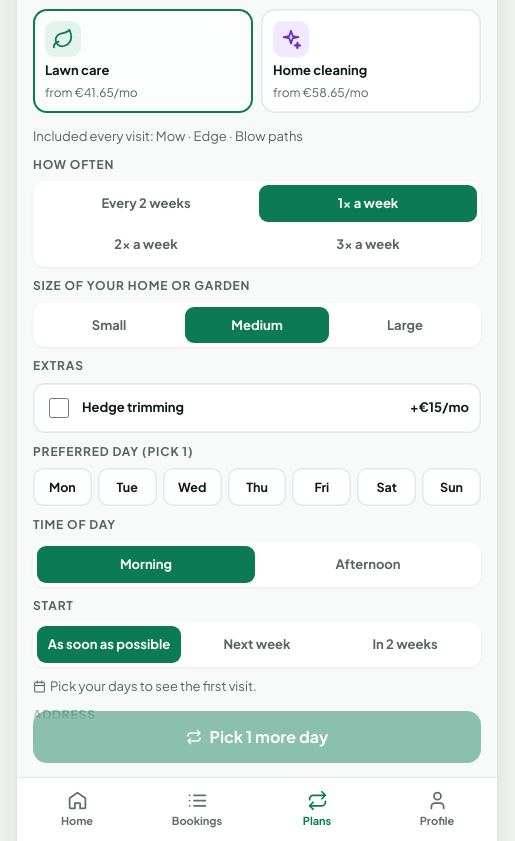
Plan builder (D90) › pays with a saved card and says so on the summary
Click the checkbox labelled "Tue".
click(127, 487)  # box [98,468,157,506]
(page scrolled)
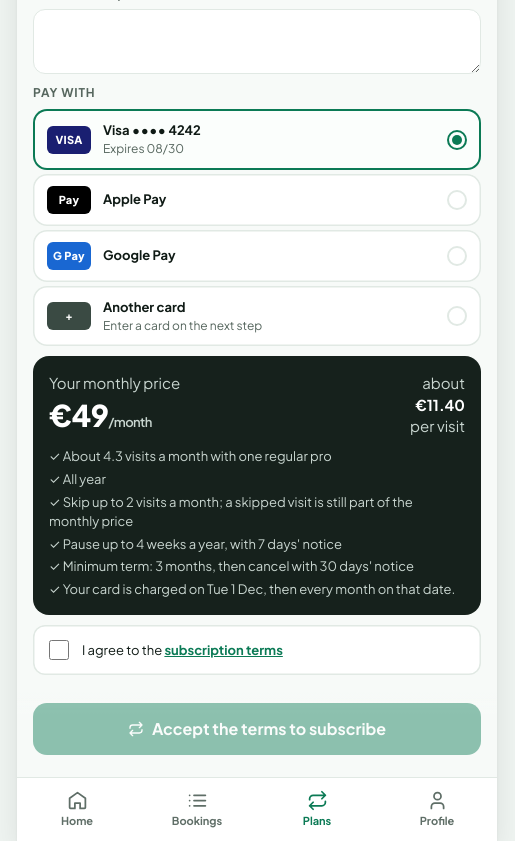
Click the checkbox named "I agree to the subscription terms".
click(59, 650)  # box [49,640,69,660]
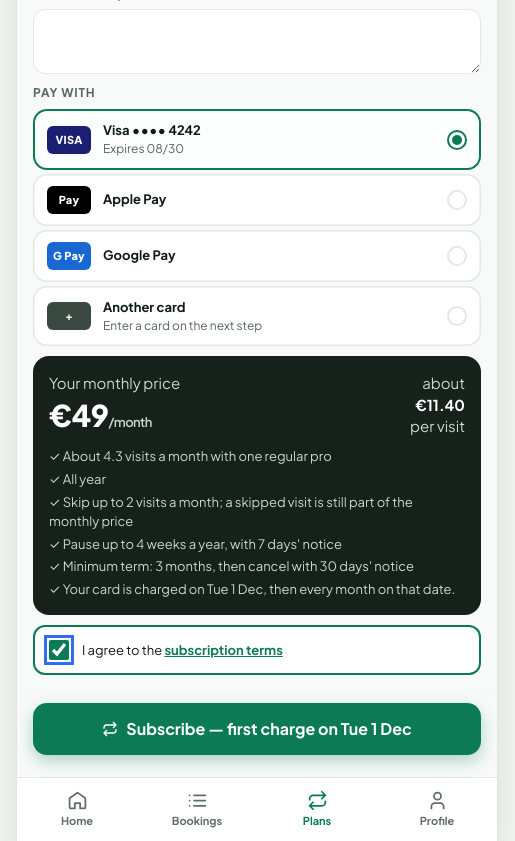
Click the button "Subscribe — first charge on Tue 1 Dec".
click(257, 729)  # box [33,703,481,755]
(page scrolled)
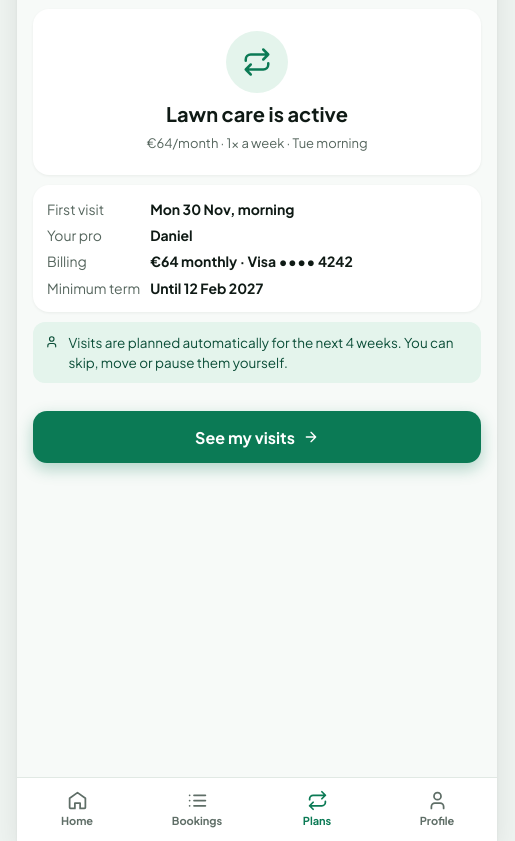
Expected: the text "€64 monthly · Visa •••• 4242" is shown, [150,252,353,270]
